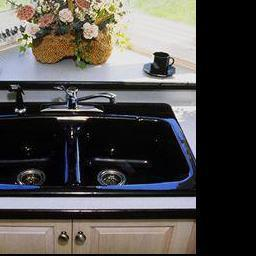Lavamanos: (0, 85, 195, 192)
